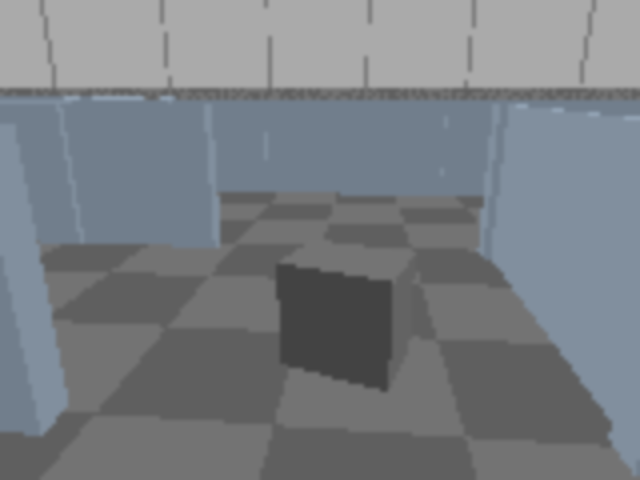obstacle: (277, 239, 416, 392)
